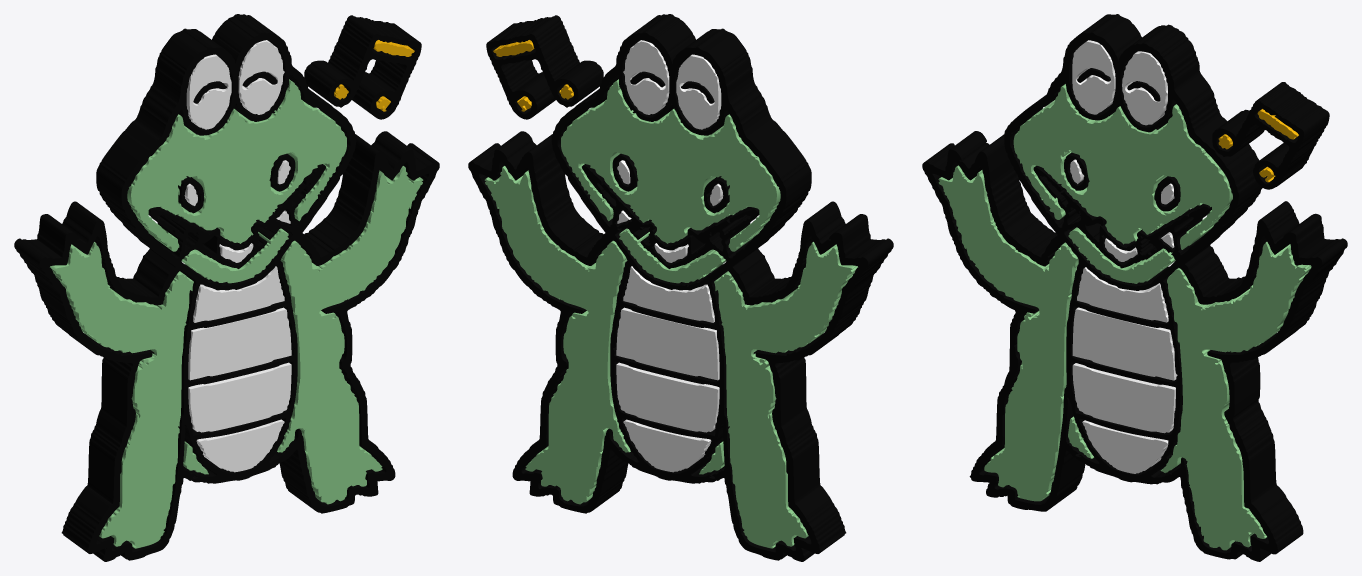
Rendered from shoubo-marker.fbx.
3 views of the same model, side by side, from view 1: azimuth 30°, elevation 25°; view 2: azimuth 150°, elevation 25°; view 3: azimuth 330°, elevation 25° (orthographic).
Parts seen in each view (by area): view 1: imagetostl_mesh; view 2: imagetostl_mesh; view 3: imagetostl_mesh.
Part boxes in pixels (left/top/right/bottom): imagetostl_mesh: left=14, top=14, right=439, bottom=561; imagetostl_mesh: left=468, top=14, right=893, bottom=561; imagetostl_mesh: left=922, top=14, right=1347, bottom=561.
Size of the model in its own units: 3271 by 3873 by 360.
